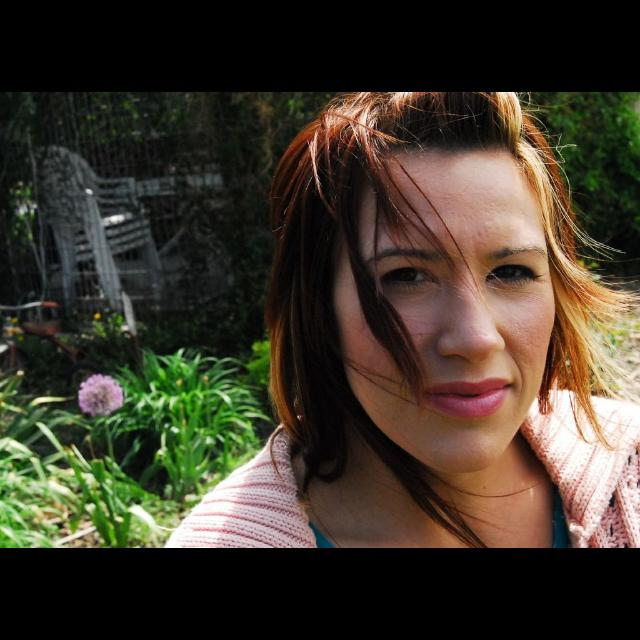Flower: (77, 373, 126, 412)
